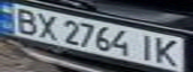2: (57, 17, 81, 46)
4: (112, 28, 133, 57)
6: (93, 25, 115, 53)
7: (75, 20, 96, 48)
B: (9, 6, 42, 35)
I: (133, 33, 160, 62)
K: (151, 36, 187, 68)
X: (33, 11, 63, 40)
